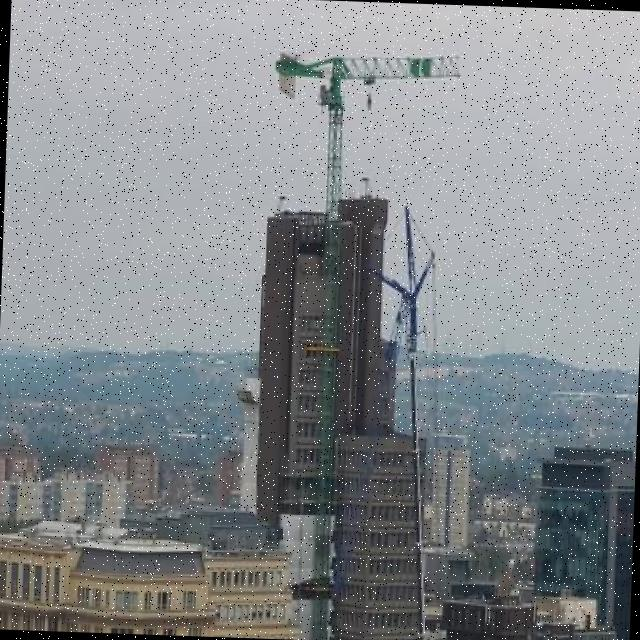Mobile Crane: (360, 205, 445, 640)
